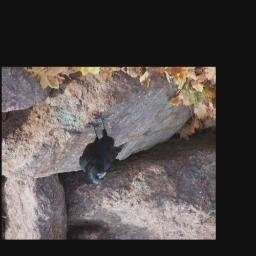Crow: (78, 110, 133, 188)
